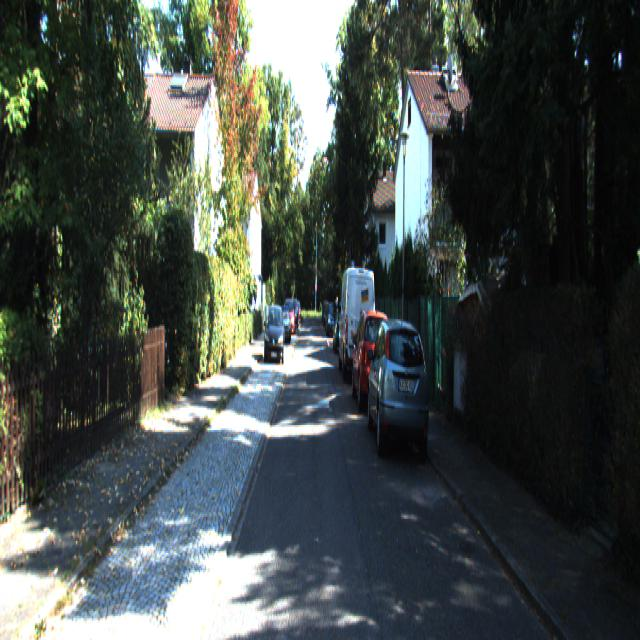Car: (366, 315, 430, 470), (352, 306, 398, 419), (338, 262, 375, 387), (265, 304, 285, 368)
